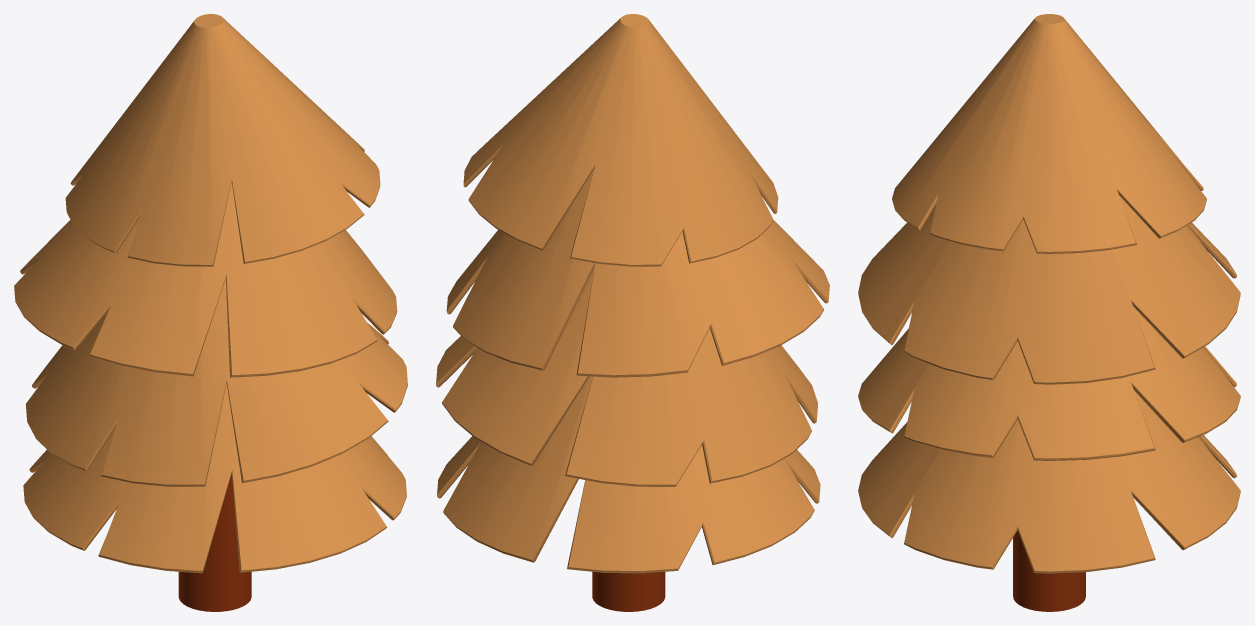
The model's file is tree (2).fbx.
The picture shows the model from 3 angles, left to right: view 1: azimuth 30°, elevation 25°; view 2: azimuth 150°, elevation 25°; view 3: azimuth 270°, elevation 25°; orthographic projection.
Parts seen in each view (by area): view 1: Cylinder.005, Cylinder.004, Cylinder.003, Cylinder.002, Cylinder.006; view 2: Cylinder.005, Cylinder.004, Cylinder.003, Cylinder.002, Cylinder.006; view 3: Cylinder.004, Cylinder.005, Cylinder.002, Cylinder.003, Cylinder.006.
Boxes of the visible parts, x1,y1,x2,y2 form: Cylinder.005: (65,14,380,266); Cylinder.004: (14,182,397,377); Cylinder.003: (25,278,407,486); Cylinder.002: (23,384,406,573); Cylinder.006: (178,474,251,611); Cylinder.005: (463,14,778,266); Cylinder.004: (446,169,829,377); Cylinder.003: (436,267,817,486); Cylinder.002: (437,376,820,573); Cylinder.006: (592,571,665,611); Cylinder.004: (858,195,1240,384); Cylinder.005: (892,14,1206,253); Cylinder.002: (858,390,1240,573); Cylinder.003: (858,307,1240,460); Cylinder.006: (1013,530,1085,611).
Bounding box in the file's own units: 287 × 296 × 477.
